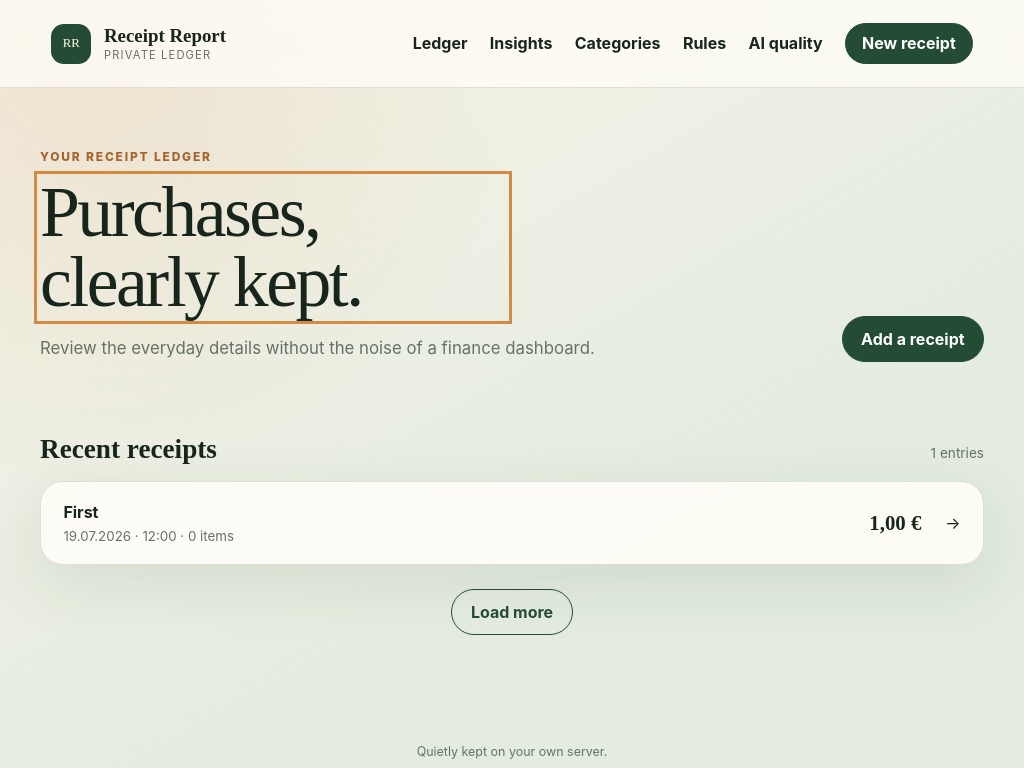
Test: application shell › loads another page without duplicate receipts
Click the button "Load more": (512, 612) [452,588,572,635]
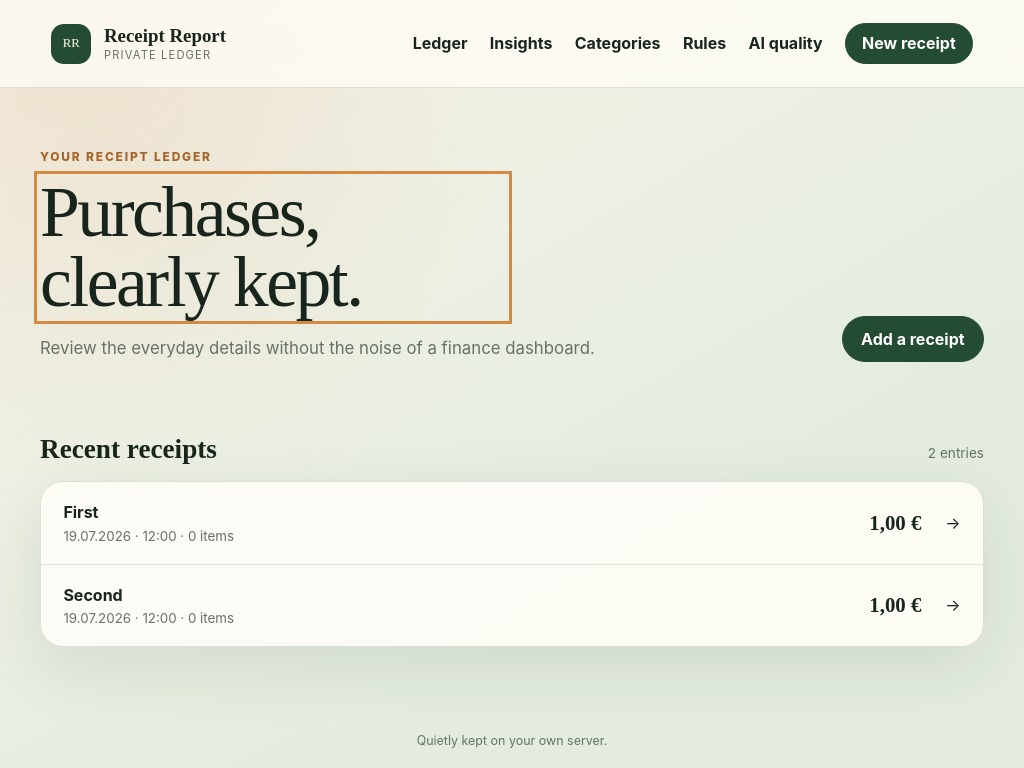
Check: the text "Second" is shown, box [63,584,123,604]
Check: the text "First" is shown once, box [63,502,98,522]
